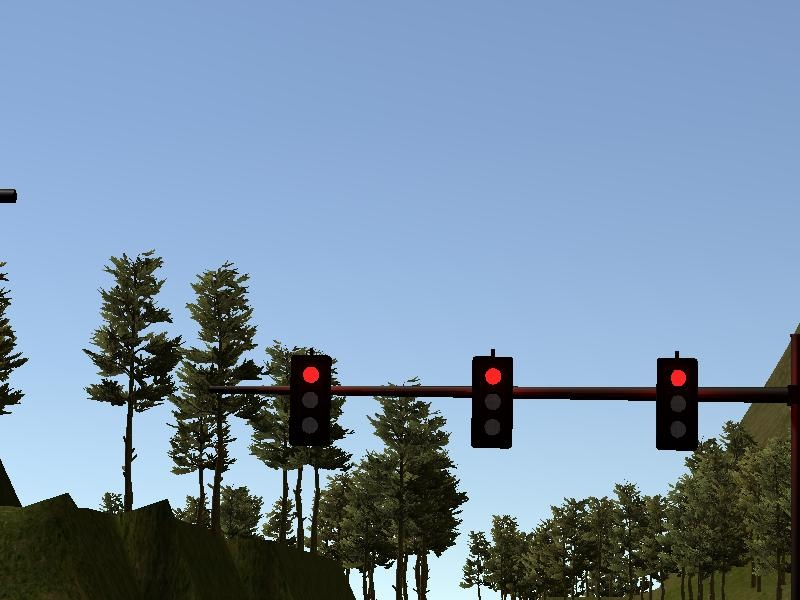red: (652, 356, 700, 451), (287, 353, 332, 447), (470, 355, 514, 451)
